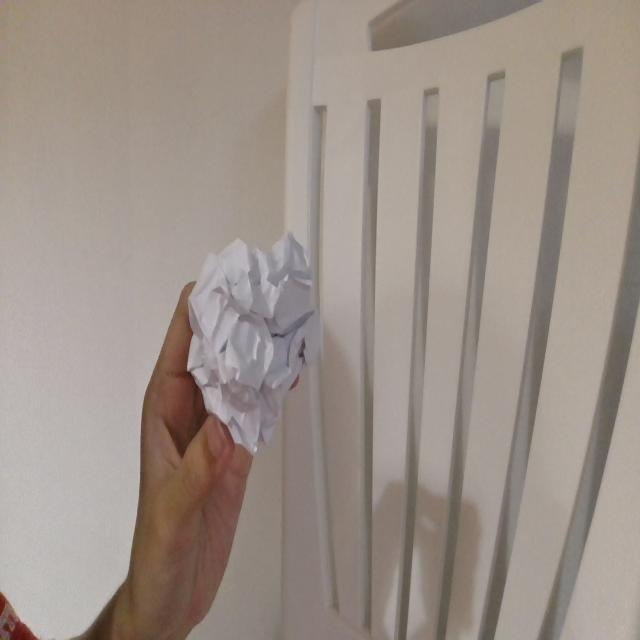crumpled_paper: (187, 225, 320, 450)
